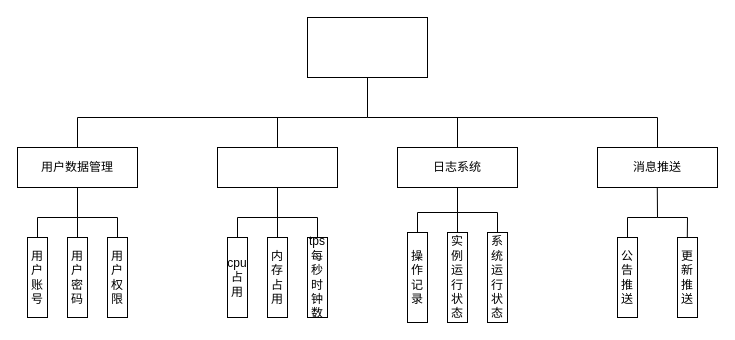
The diagram is 735 pixels wide and 340 high, and some of its shapes have lost their labels. Each missing label, with the centre of its shape:
服务器状态监测: point 277,167
游戏后台管理系统: point 367,47
